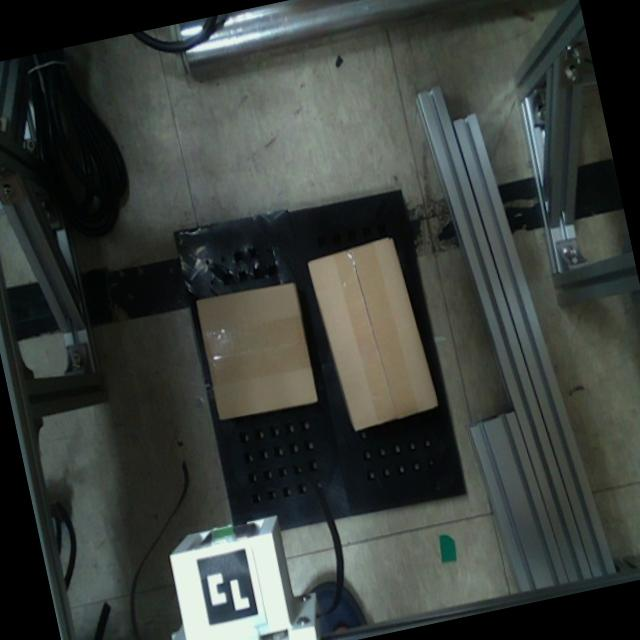box: (300, 228, 446, 436), (190, 274, 324, 426)
